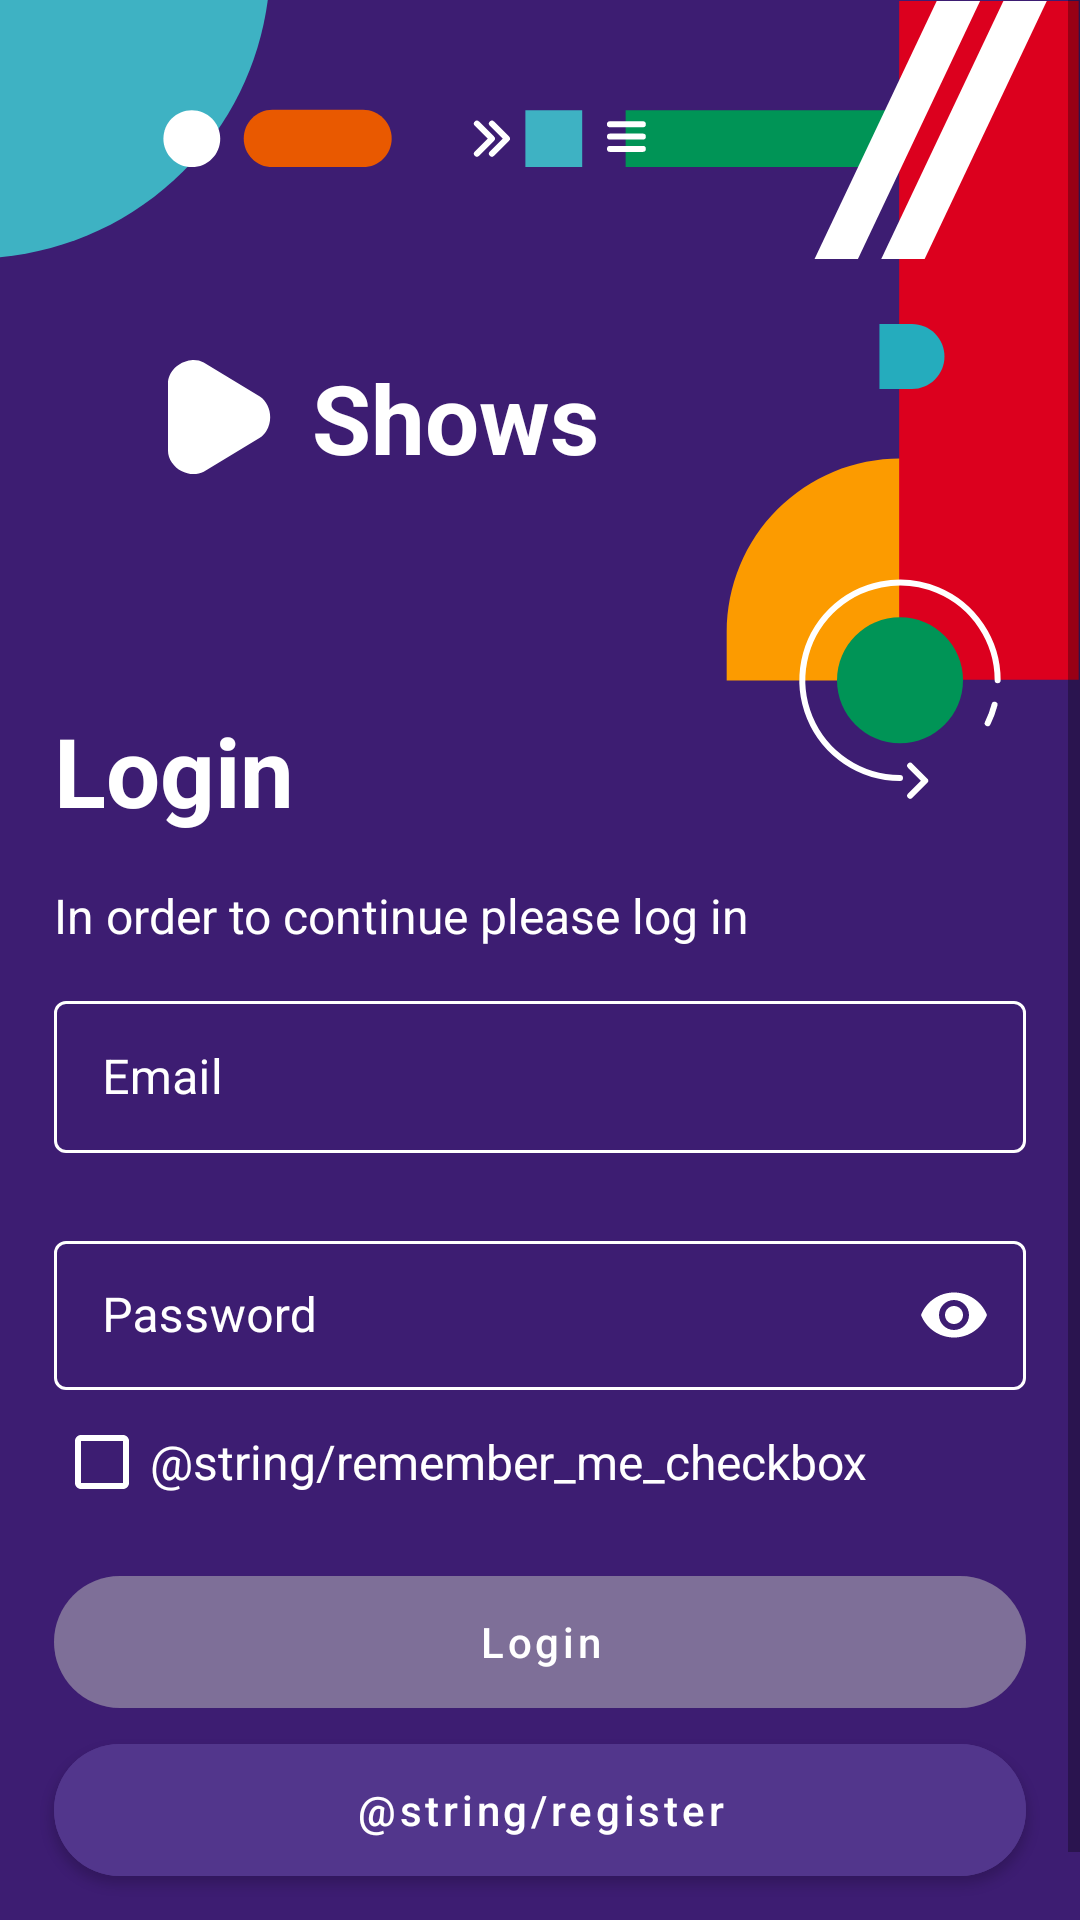

Icon bounding boxes for this 1080×1920 phone screenshot, format [x1,y1,x2,y2]:
welcome triangle: [168,360,271,474]
